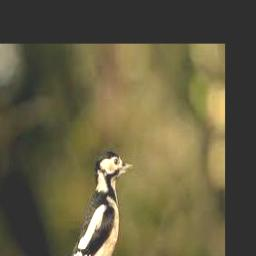Woodpecker: (67, 152, 134, 256)
